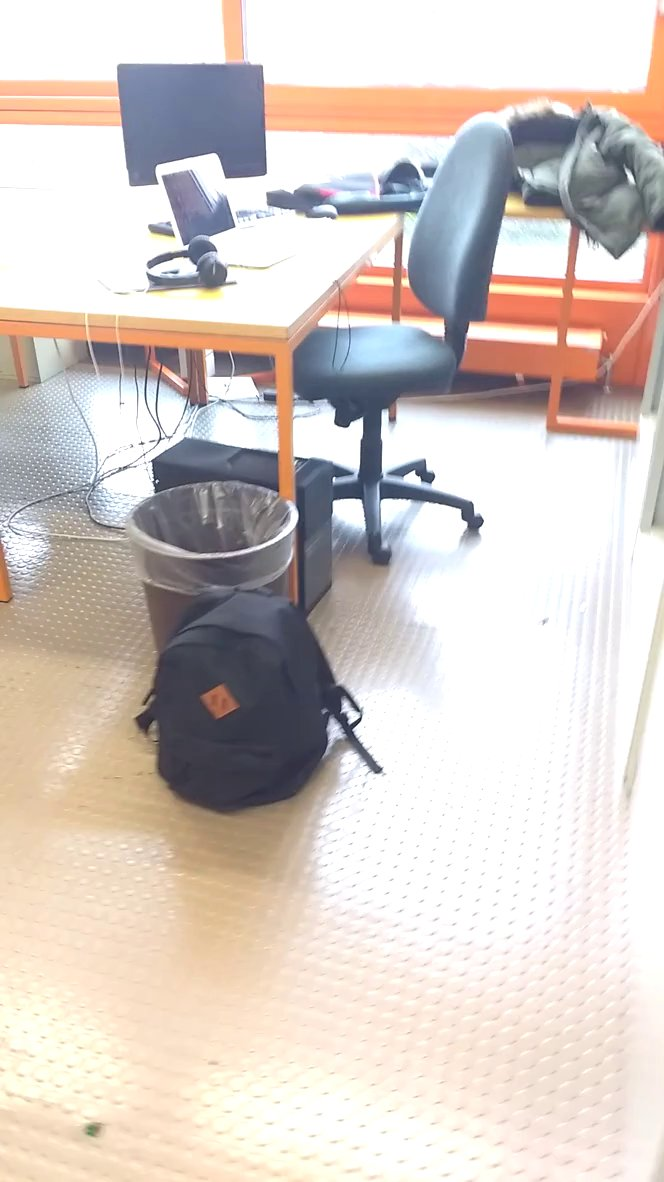bag: (132, 583, 371, 817)
bin: (121, 483, 314, 605)
chair: (291, 86, 510, 578)
laptop: (147, 146, 327, 280)
